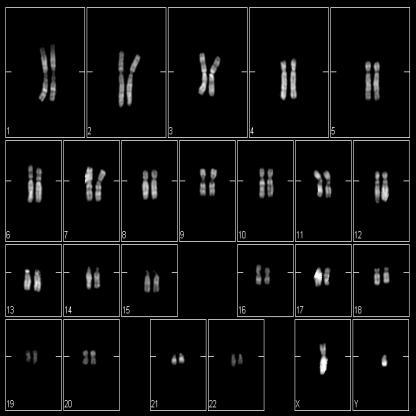1: (36, 44, 50, 106), (48, 43, 57, 105)
10: (255, 164, 267, 200), (266, 164, 278, 200)
11: (311, 166, 323, 202), (323, 164, 335, 200)
12: (380, 166, 390, 207), (372, 166, 381, 206)
13: (22, 261, 32, 297), (32, 262, 42, 298)
14: (92, 260, 102, 292), (84, 261, 93, 292)
15: (144, 266, 151, 297), (152, 266, 159, 297)
16: (254, 258, 262, 292), (263, 258, 271, 290)
17: (310, 262, 322, 291), (322, 262, 334, 291)
18: (372, 262, 380, 293), (382, 262, 390, 293)
19: (22, 346, 32, 368), (31, 345, 40, 368)
2: (126, 46, 140, 111), (118, 48, 126, 111)
20: (78, 344, 90, 368), (88, 344, 98, 368)
21: (170, 350, 178, 372), (178, 348, 186, 370)
22: (236, 348, 244, 374), (230, 348, 236, 374)
3: (196, 50, 208, 100), (208, 49, 220, 99)
4: (289, 52, 298, 104), (280, 53, 288, 106)
5: (364, 57, 372, 104), (374, 57, 382, 104)
6: (25, 162, 35, 206), (34, 162, 44, 206)
7: (82, 163, 94, 203), (94, 162, 106, 202)
8: (140, 166, 149, 204), (149, 166, 158, 204)
9: (198, 164, 208, 198), (208, 164, 218, 198)
X: (317, 340, 330, 378)
Y: (380, 349, 388, 373)
